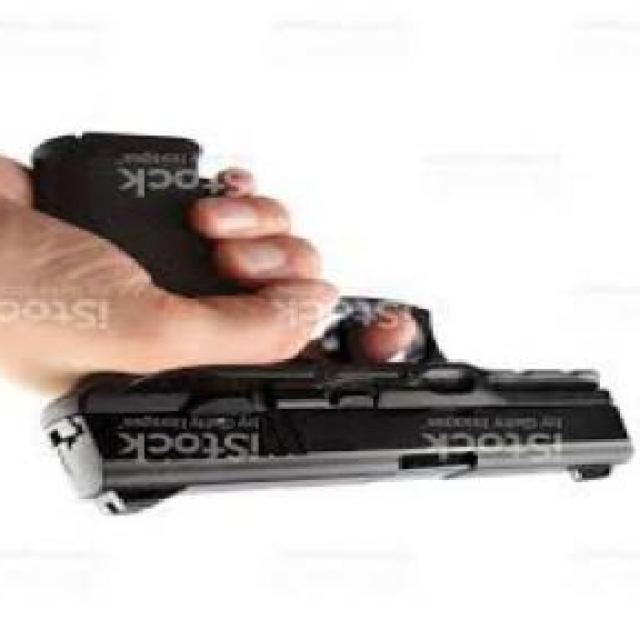pistol: (33, 133, 638, 520)
